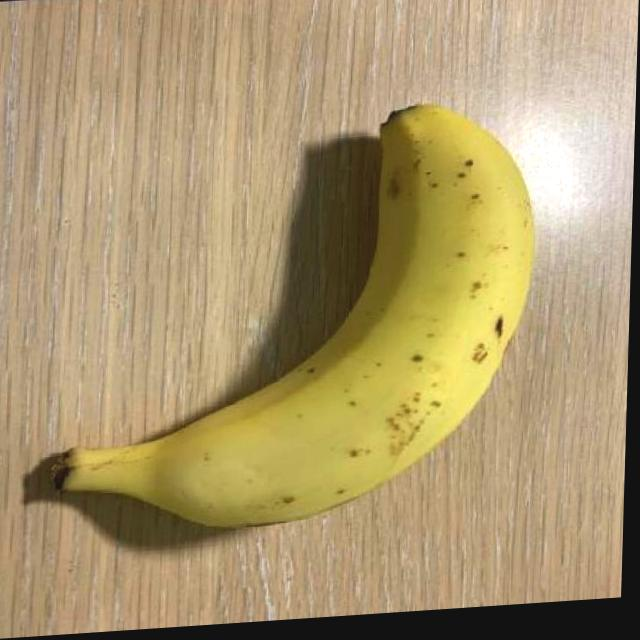banana: (36, 91, 550, 547)
